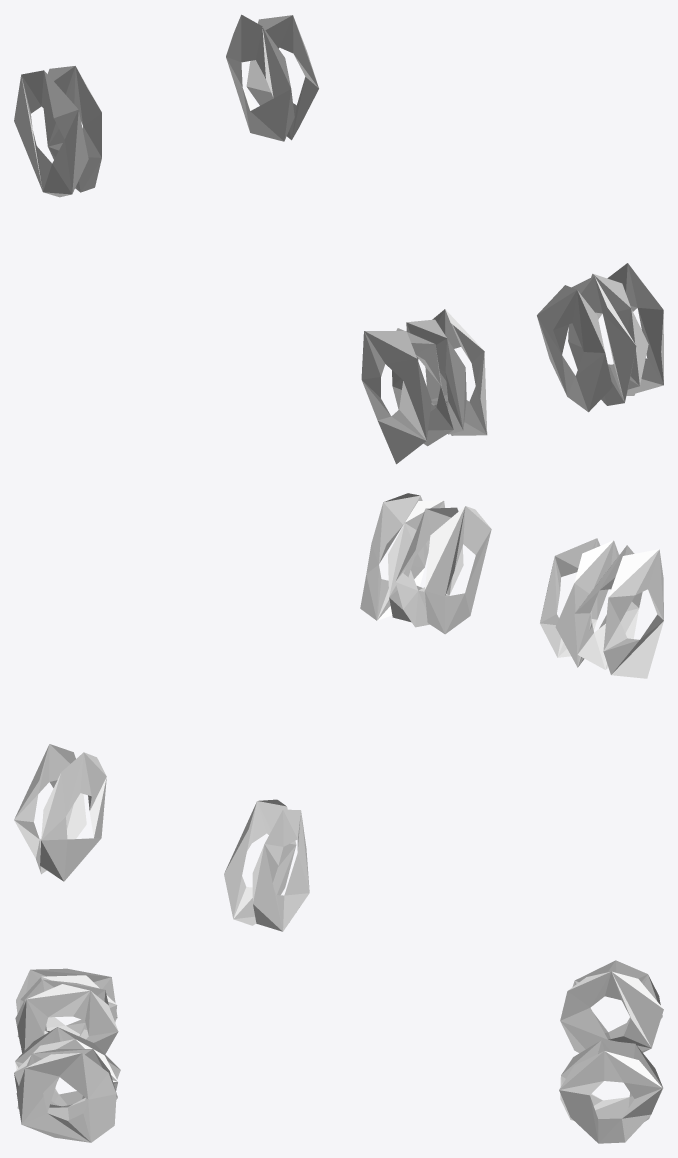
3 renders of one model, top to bottom at view 1: azimuth 30°, elevation 25°; view 2: azimuth 150°, elevation 25°; view 3: azimuth 270°, elevation 25°, orthographic. The views are drawn at different scales.
Bounding box in the file's own units: 2.41 × 1.19 × 6.82.
1 material, 1 textured.
